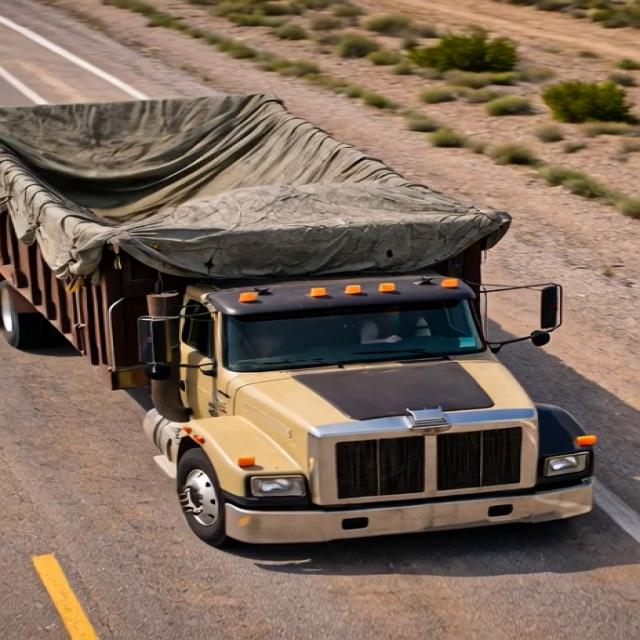trailer: (2, 90, 514, 256)
truck: (0, 77, 601, 563)
